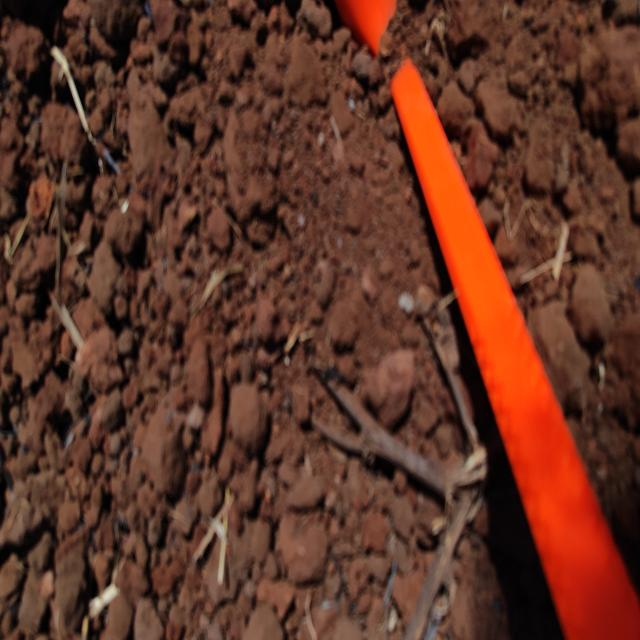Orange_hammer: (334, 2, 639, 637)
